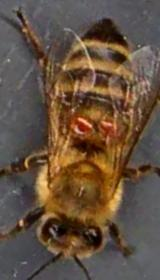varroa_mite: (95, 116, 126, 145), (68, 112, 98, 136)
